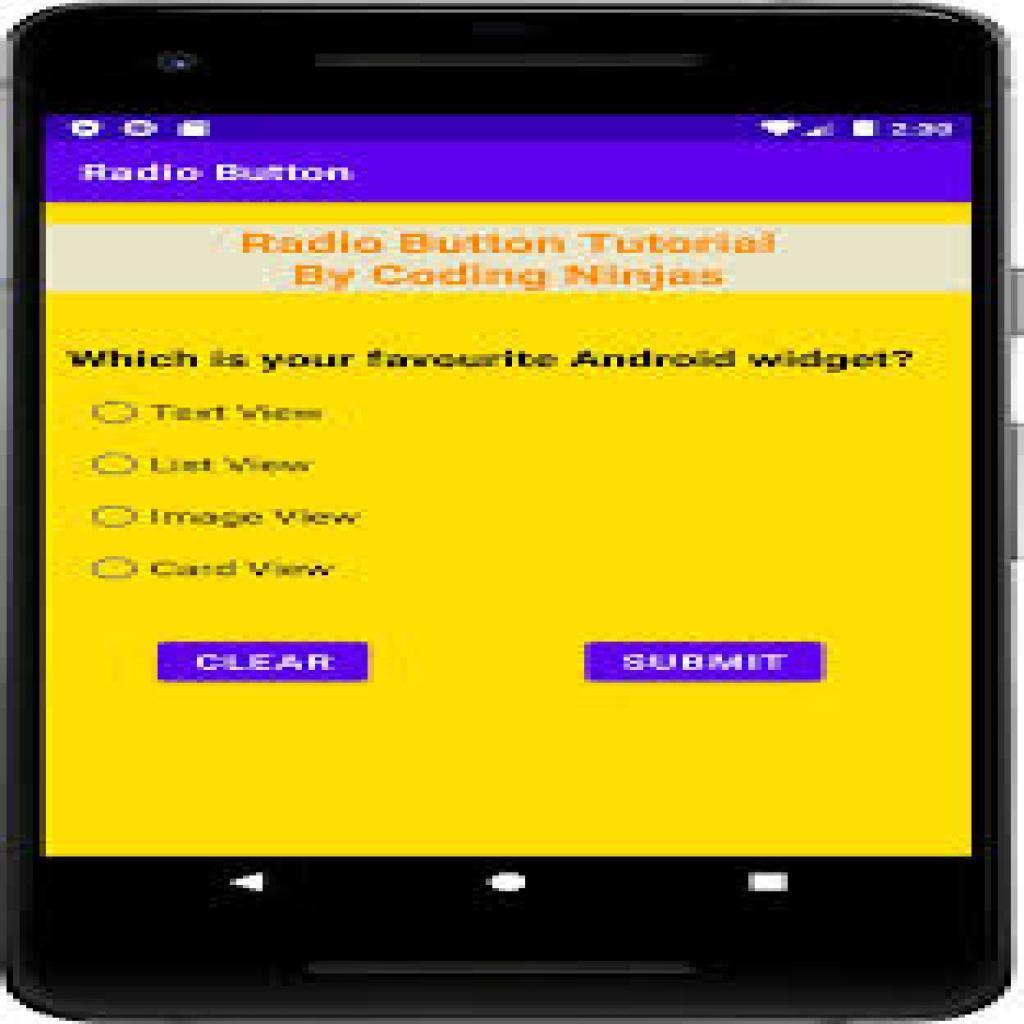button: (584, 641, 828, 683), (160, 641, 367, 682)
label: (148, 503, 366, 534), (150, 556, 339, 583), (149, 403, 324, 425), (147, 455, 320, 475)
radio: (87, 504, 140, 531), (91, 401, 143, 428), (90, 453, 143, 479), (90, 556, 139, 581)
